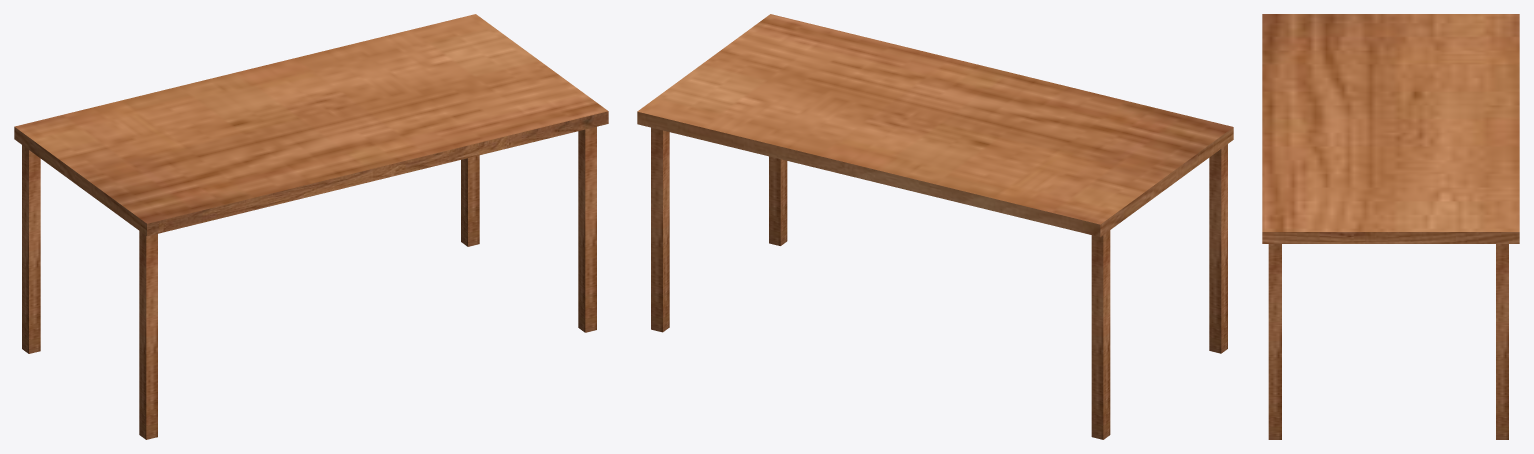
The model's file is Table.fbx.
The picture shows the model from 3 angles, left to right: view 1: azimuth 30°, elevation 25°; view 2: azimuth 150°, elevation 25°; view 3: azimuth 270°, elevation 25°; orthographic projection. The views are drawn at different scales.
Visible parts, largest first — view 1: Cube; view 2: Cube; view 3: Cube.
Boxes of the visible parts, left/top/right/bottom form: Cube: left=14, top=14, right=608, bottom=439; Cube: left=637, top=14, right=1233, bottom=439; Cube: left=1262, top=14, right=1519, bottom=439.
Size of the model in its own units: 401 by 182 by 200.
1 material, 1 textured.
